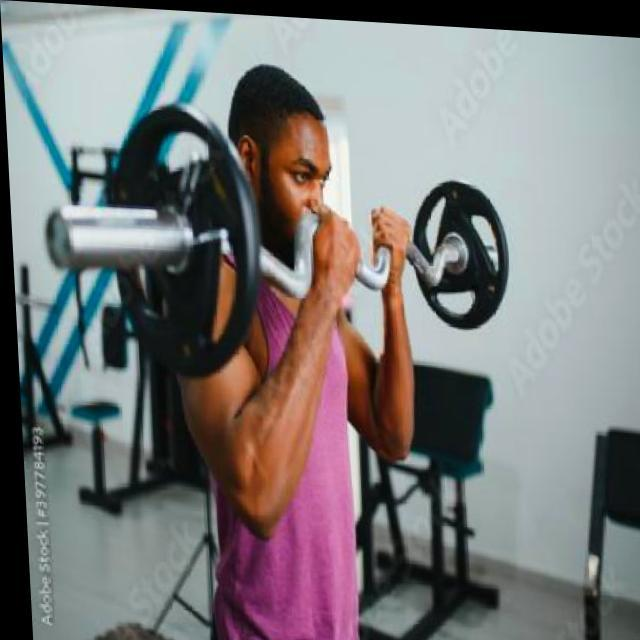barbell: (34, 94, 266, 389)
